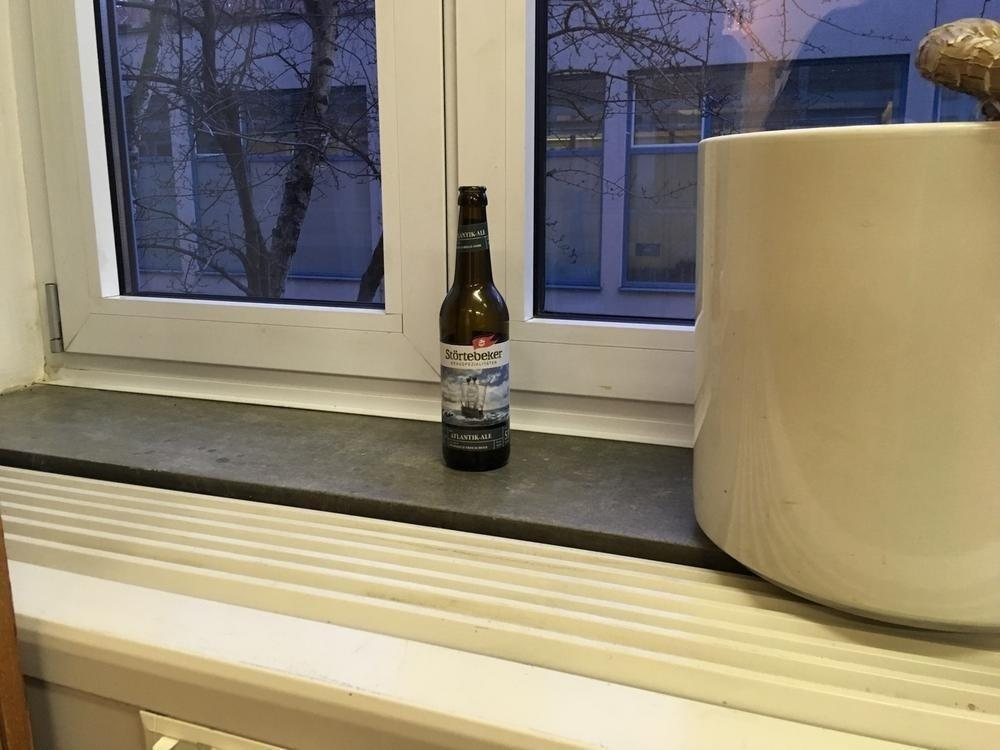bottle-glass: (438, 185, 512, 473)
